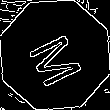M_NE: (23, 23, 87, 87)
